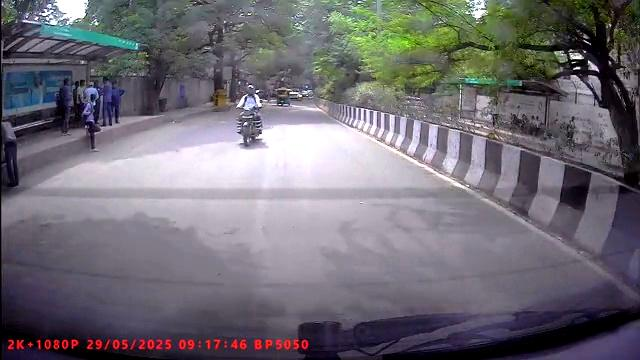motorcycle_with_helmet: (235, 83, 265, 146)
